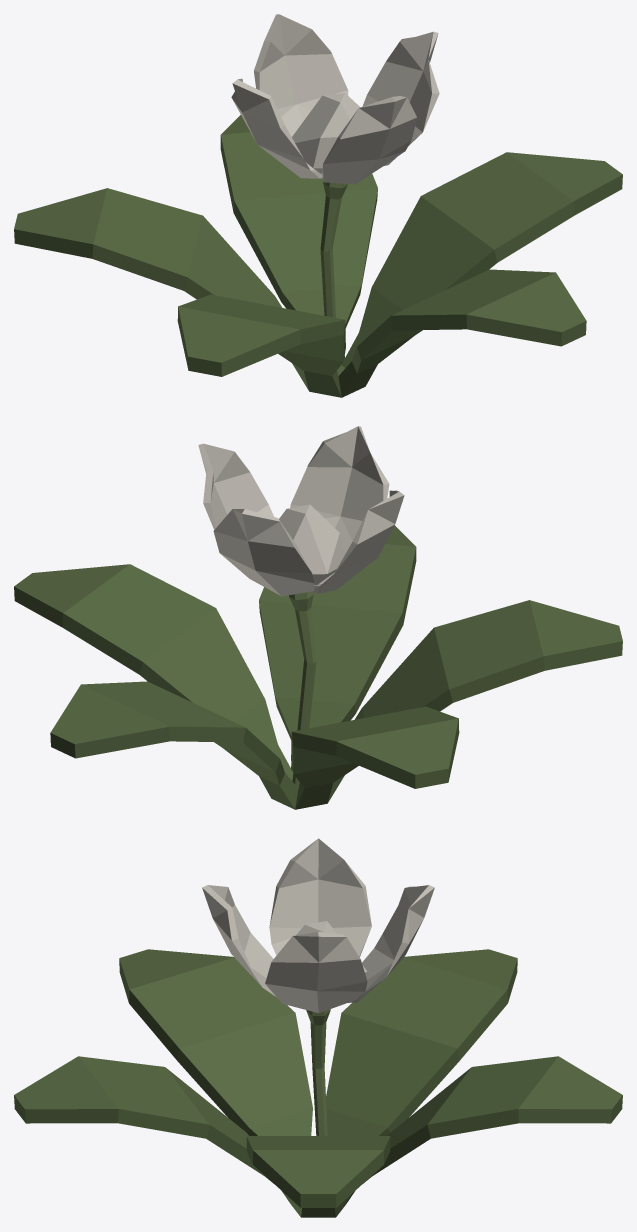
File: SM_Envr_Nature_Plant_02.fbx
3 views of the same model, one above another, from view 1: azimuth 30°, elevation 25°; view 2: azimuth 150°, elevation 25°; view 3: azimuth 270°, elevation 25° (orthographic). The views are drawn at different scales.
Parts seen in each view (by area): view 1: SM_Envr_Nature_Plant_02; view 2: SM_Envr_Nature_Plant_02; view 3: SM_Envr_Nature_Plant_02.
Part boxes in pixels (x1,y1,x2,y2): SM_Envr_Nature_Plant_02: (14, 14, 622, 397); SM_Envr_Nature_Plant_02: (14, 426, 622, 809); SM_Envr_Nature_Plant_02: (14, 838, 622, 1217).
Size of the model in its own units: 125 by 77.07 by 132.
